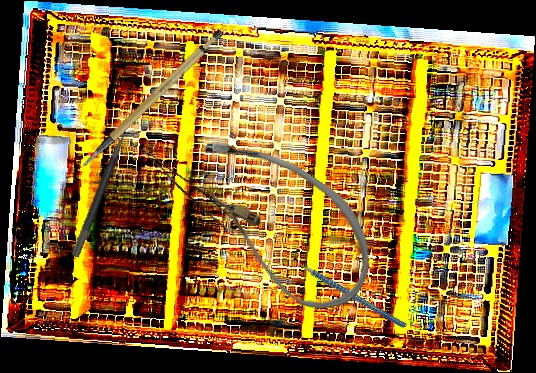Cannula: (162, 117, 398, 327)
Chopper: (274, 222, 408, 363)
Fixation Ring: (70, 117, 146, 263)
Scalpel Handle: (63, 26, 239, 168)
Tissue Forceps: (133, 148, 238, 231)
